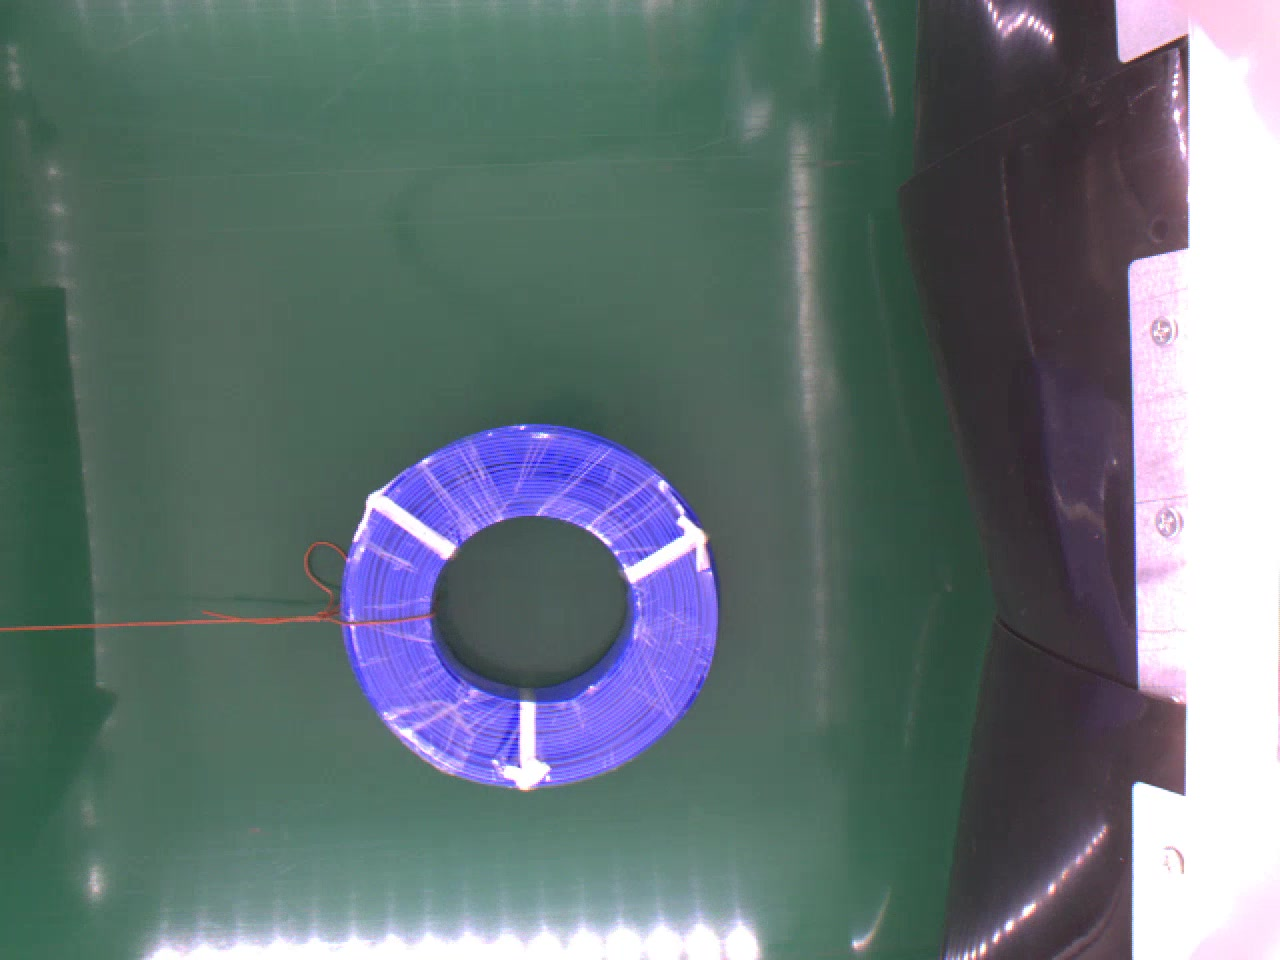blue: (340, 415, 719, 790)
